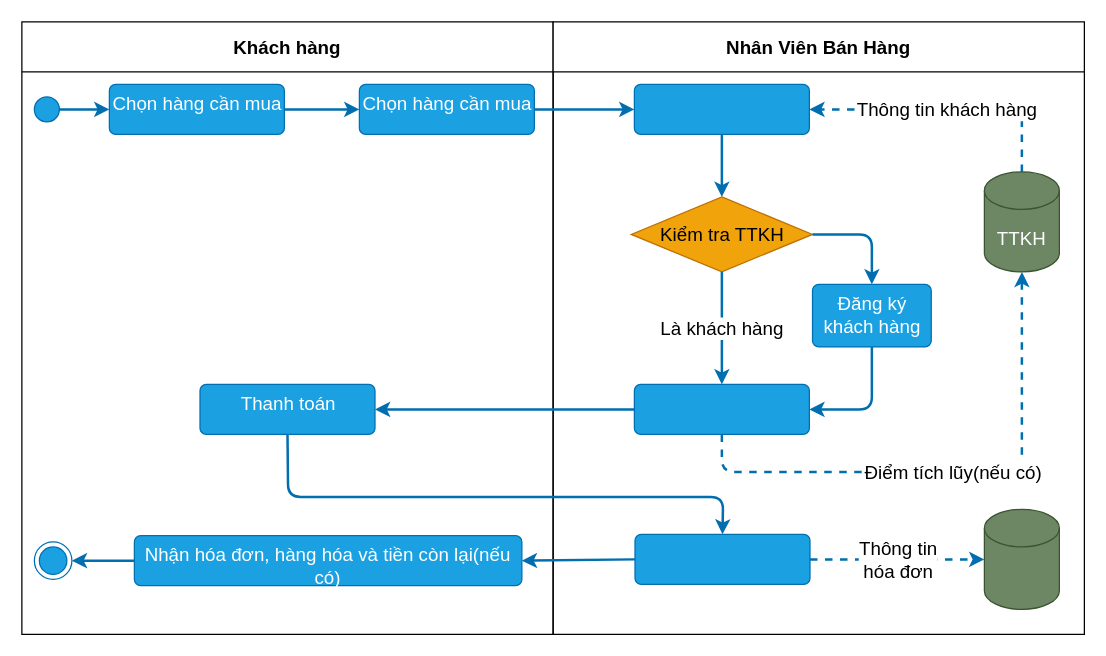
Image size: 1106x656. Some labels were removed from this diagram. Here are the shapes that lost their labels. From the top down, the box of each, then its label:
(633, 83, 809, 134): Nhận hàng từ khách
(633, 383, 809, 434): Tính tổng tiền
(634, 533, 810, 584): Xuất hóa đơn
(983, 508, 1059, 609): Hóa đơn
